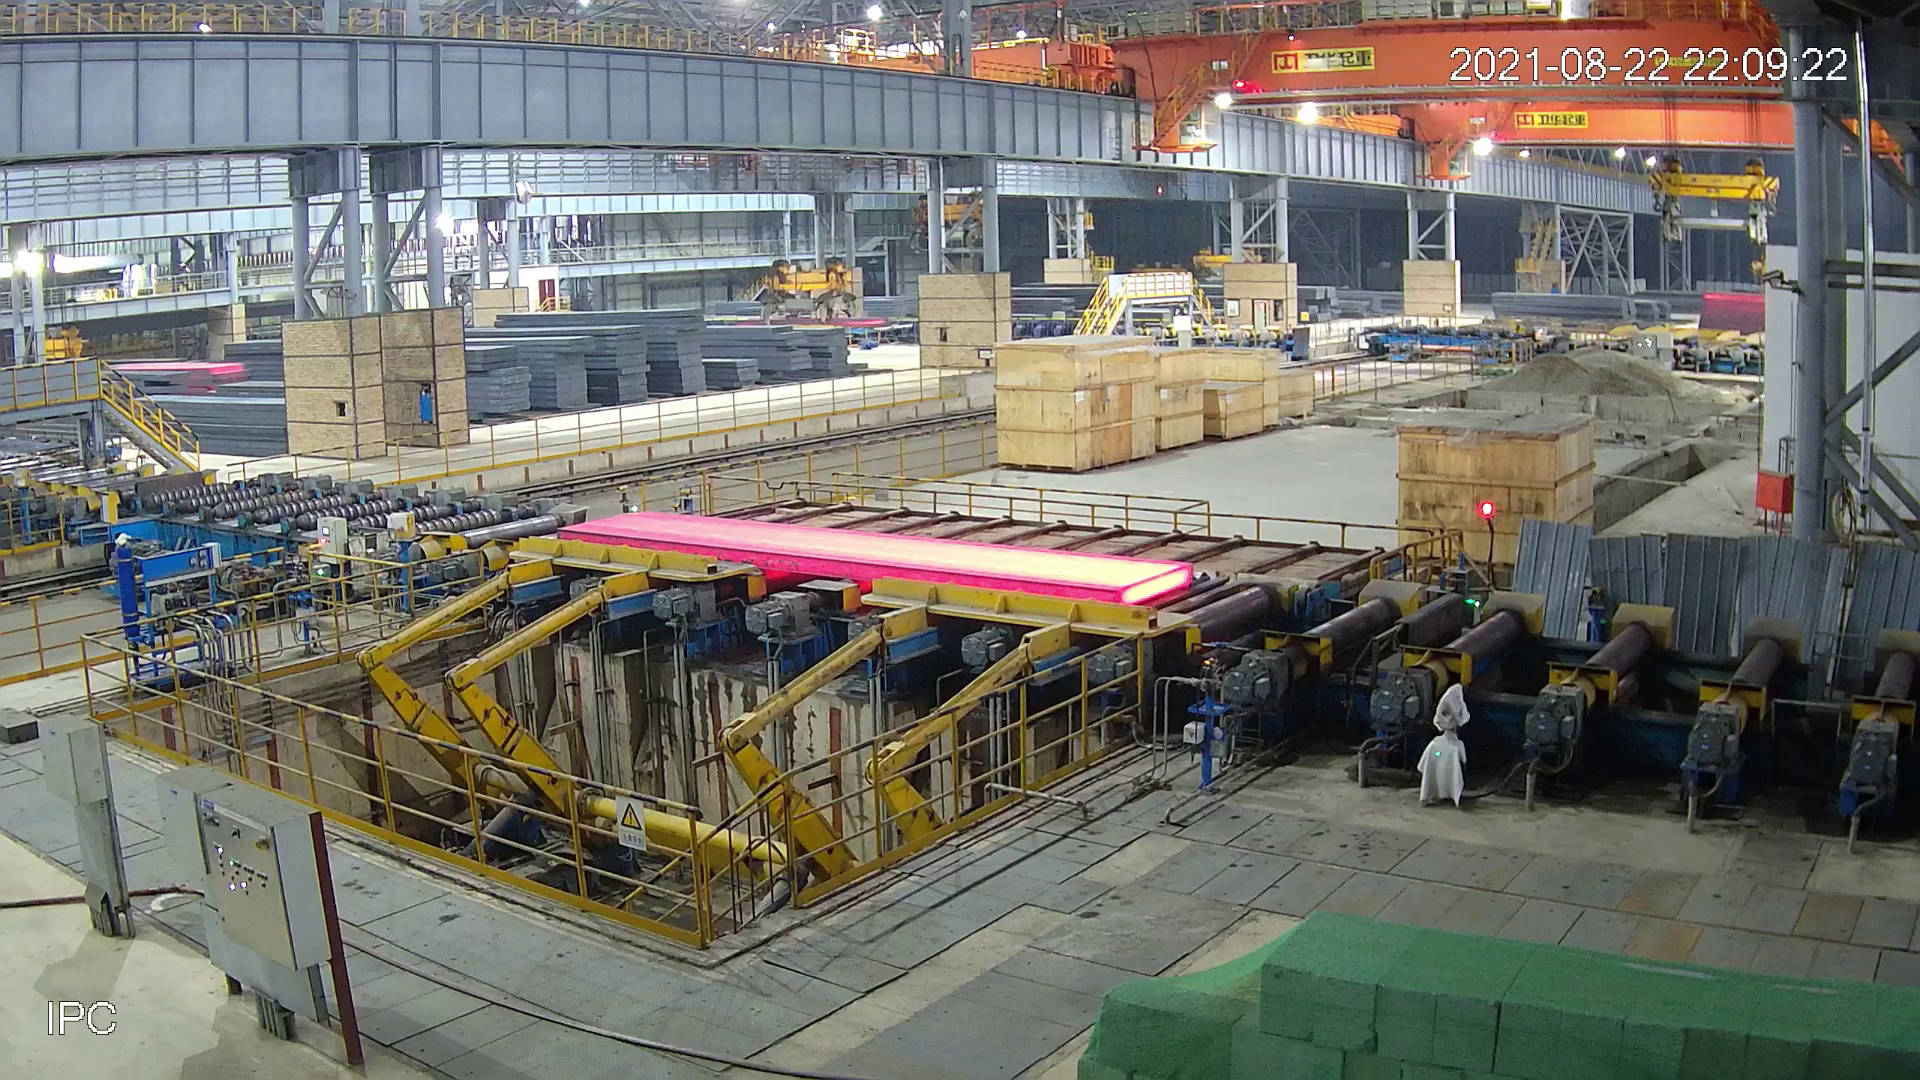slab: (556, 510, 1193, 604)
